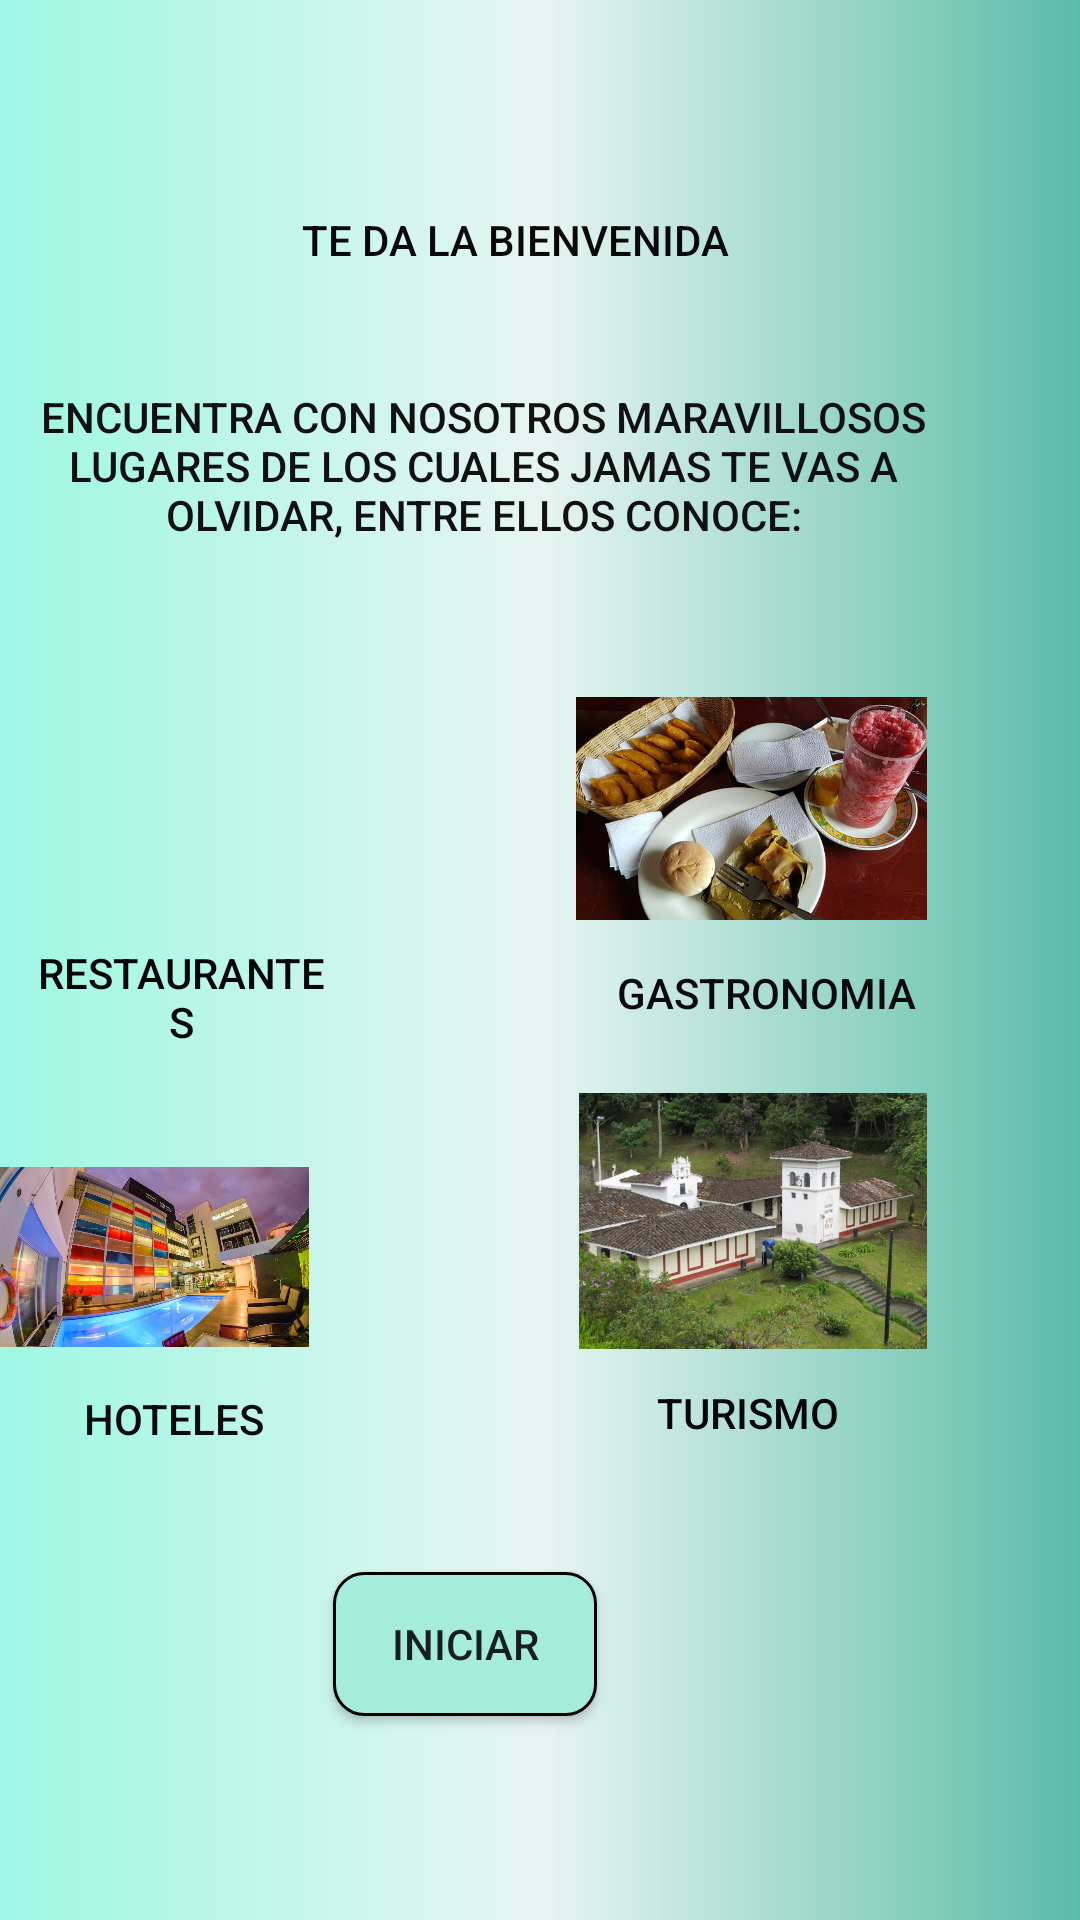

Screen size 1080×1920. Icon name, then its center in pixels as point (x, y):
pueblito: point (753, 1221)
